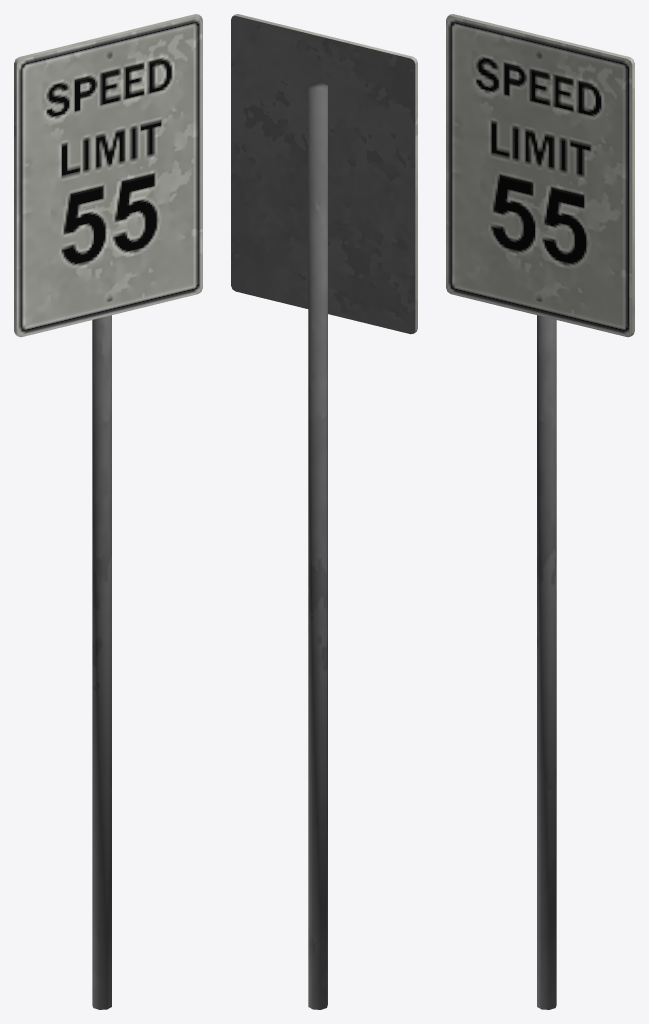
Rendered from Sign_02.glb.
The picture shows the model from 3 angles, left to right: view 1: azimuth 30°, elevation 25°; view 2: azimuth 150°, elevation 25°; view 3: azimuth 330°, elevation 25°; orthographic projection.
Visible parts, largest first — view 1: Sign_02.001; view 2: Sign_02.001; view 3: Sign_02.001.
Part boxes in pixels (<box>): Sign_02.001: <box>14,14,202,1009</box>; Sign_02.001: <box>231,14,417,1009</box>; Sign_02.001: <box>446,14,634,1009</box>.
Size of the model in its own units: 0.42 by 2.1 by 0.05.
Materials: 1 (1 with a texture image).
